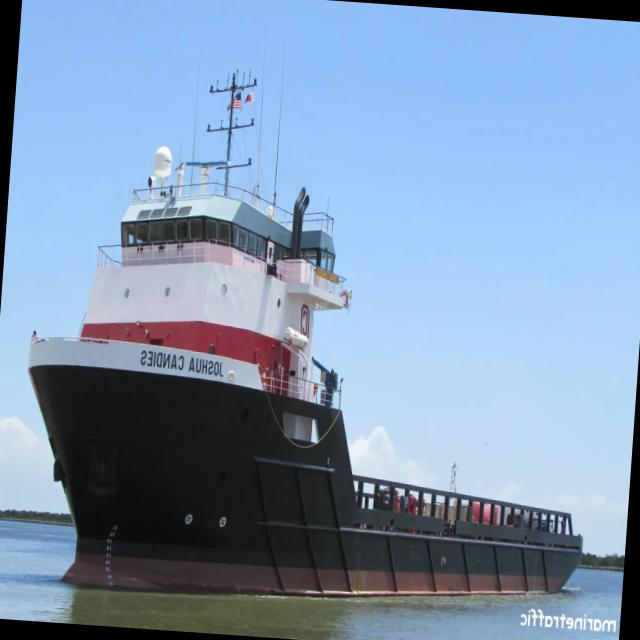Offshore: (29, 74, 582, 594)
